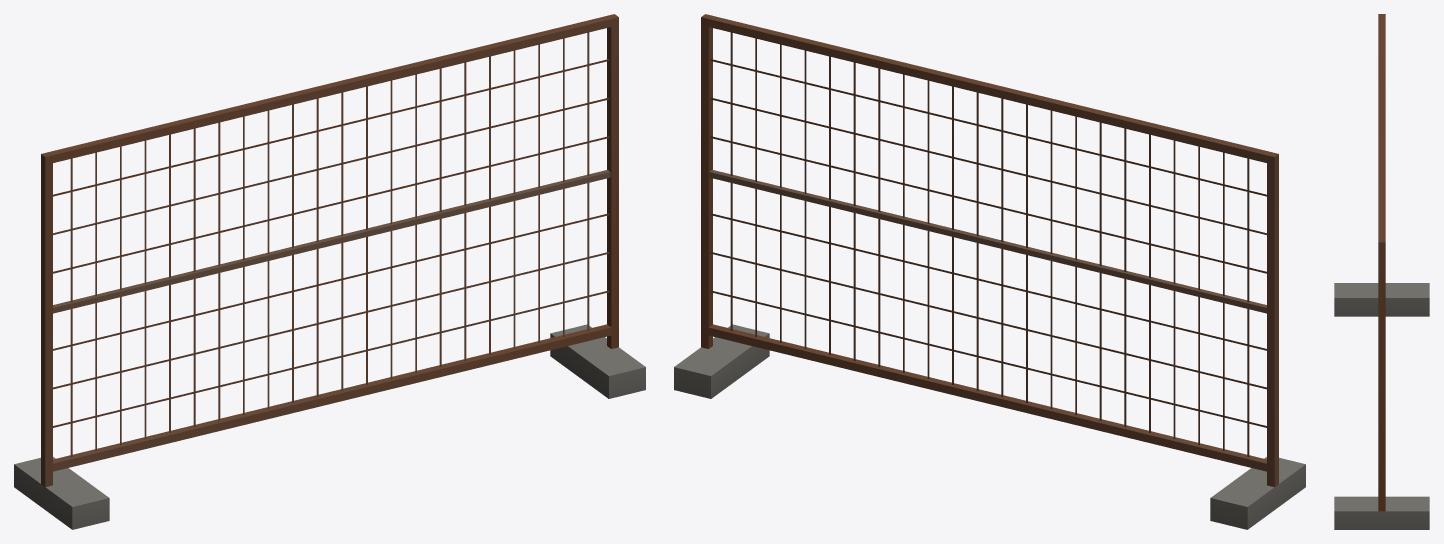
File: fence.site_panel.rusty.glb
3 views of the same model, side by side, from view 1: azimuth 30°, elevation 25°; view 2: azimuth 150°, elevation 25°; view 3: azimuth 270°, elevation 25° (orthographic). The views are drawn at different scales.
Parts seen in each view (by area): view 1: fence_site_panel_rusty; view 2: fence_site_panel_rusty; view 3: fence_site_panel_rusty.
Part boxes in pixels (x1,y1,x2,y2): fence_site_panel_rusty: [14, 14, 645, 529]; fence_site_panel_rusty: [674, 14, 1305, 529]; fence_site_panel_rusty: [1334, 14, 1429, 529].
Size of what is drawn, in the model's own units: 3.4 by 2 by 0.6.
